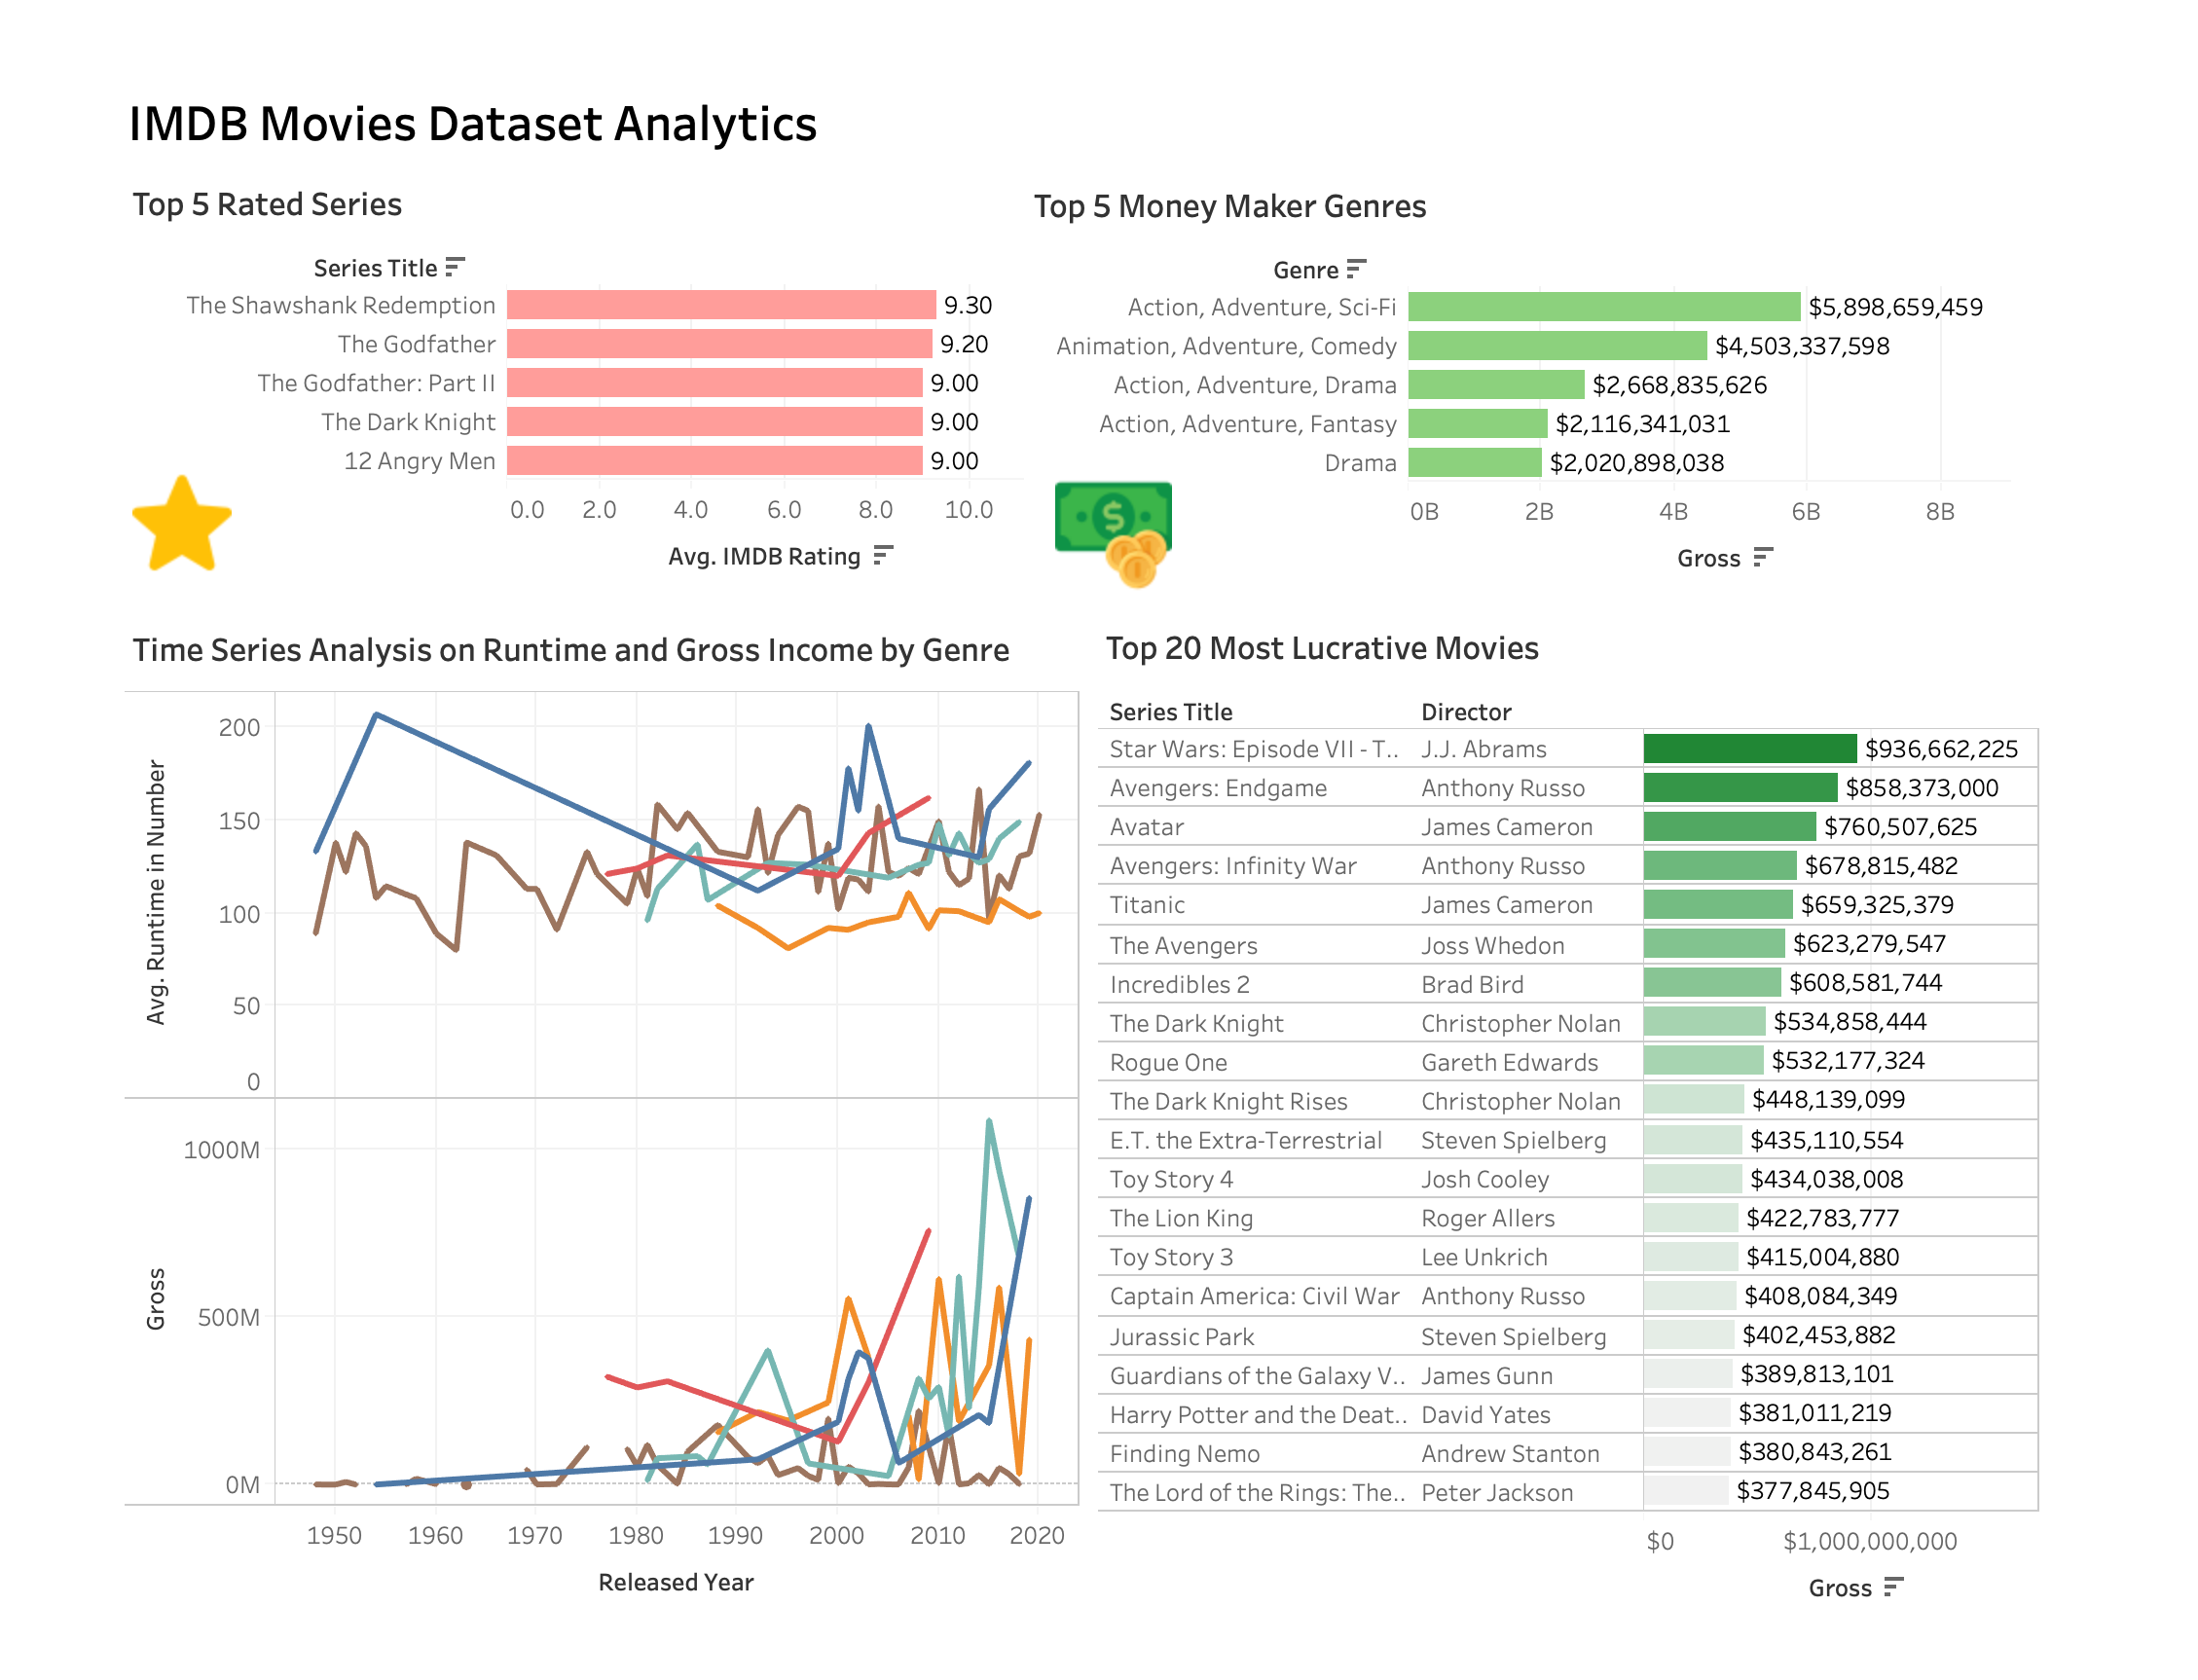

Layout of this report page (visuals, bound fields, positions):
{"tool":"tableau","page":{"name":"IMDB Movies Dataset Analytics ","canvas":[1000,800],"ordinal":0},"visuals":[{"type":"worksheet","box":[0,0,1000,800]},{"type":"worksheet","param":"horz","box":[8,8,984,784]},{"type":"worksheet","param":"horz","box":[8,8,984,784]},{"type":"worksheet","param":"vert","box":[8,8,984,784]},{"type":"worksheet","box":[8,8,984,41]},{"type":"worksheet","title":"Top 5 Rated Series","mark":"Automatic","rows":["Series_Title"],"cols":["IMDB_Rating"],"box":[13,55,462,247]},{"type":"worksheet","title":"Top 5 Most Lucrative Genre","mark":"Automatic","rows":["Genre"],"cols":["Gross"],"box":[476,56,506,248]},{"type":"worksheet","param":"Image/star.png","box":[17,209,93,51]},{"type":"worksheet","param":"Image/money.png","box":[491,211,73,60]},{"type":"worksheet","title":"Top 20 Most Lucrative Movies","mark":"Automatic","rows":["Series_Title","Director"],"cols":["Gross"],"box":[513,283,484,515]},{"type":"worksheet","title":"Time Series Analysis on Runtime and Gross Income by Genre","mark":"Automatic","rows":["Calculation_3677892798019551233","Gross"],"cols":["Released_Year"],"box":[13,284,491,512]}]}

Visuals, with their boxes on the page's 1000x800 design canvas (x1, y1, x2, y2). These are canvas units, not pixel positions in the 2198x1680 screenshot, which may show the page scaled, cropped or inside an application window:
worksheet: box(0, 0, 1000, 800)
worksheet: box(8, 8, 992, 792)
worksheet: box(8, 8, 992, 792)
worksheet: box(8, 8, 992, 792)
worksheet: box(8, 8, 992, 49)
"Top 5 Rated Series" worksheet: box(13, 55, 475, 302)
"Top 5 Most Lucrative Genre" worksheet: box(476, 56, 982, 304)
worksheet: box(17, 209, 110, 260)
worksheet: box(491, 211, 564, 271)
"Top 20 Most Lucrative Movies" worksheet: box(513, 283, 997, 798)
"Time Series Analysis on Runtime and Gross Income by Genre" worksheet: box(13, 284, 504, 796)
